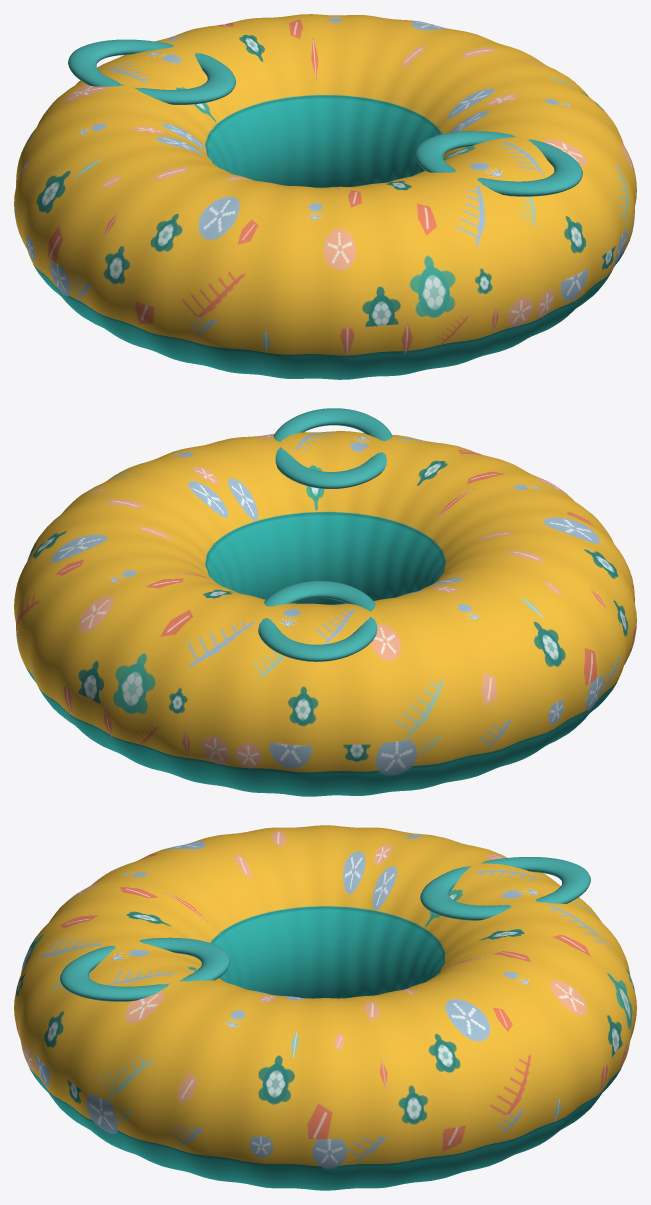
3 renders of one model, top to bottom at view 1: azimuth 30°, elevation 25°; view 2: azimuth 150°, elevation 25°; view 3: azimuth 270°, elevation 25°, orthographic.
Visible parts, largest first — view 1: tube; view 2: tube; view 3: tube.
Boxes of the visible parts, box(x1,y1,x2,y2) form: tube: box(14, 14, 636, 379); tube: box(14, 408, 636, 796); tube: box(14, 825, 636, 1190).
Size of the model in its own units: 3.05 by 0.9194 by 3.05.
Materials: 2 (1 with a texture image).
